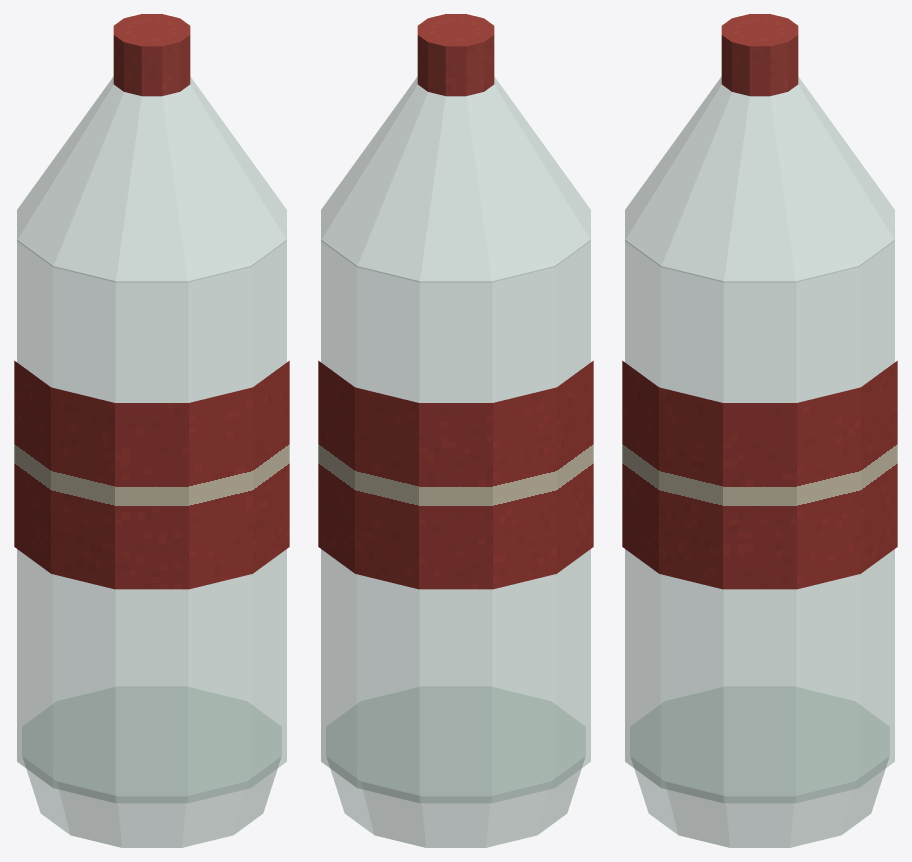
The model's file is bottle_twoliter.glb.
3 renders of one model, left to right at view 1: azimuth 30°, elevation 25°; view 2: azimuth 150°, elevation 25°; view 3: azimuth 270°, elevation 25°, orthographic.
Visible parts, largest first — view 1: block_clear PET sides, block_soda label, block_rounded shoulder, block_moulded base, block_red cap; view 2: block_clear PET sides, block_soda label, block_rounded shoulder, block_moulded base, block_red cap; view 3: block_clear PET sides, block_soda label, block_rounded shoulder, block_moulded base, block_red cap.
Part boxes in pixels (x1,y1,x2,y2): block_clear PET sides: (17,240,286,803); block_soda label: (14,360,289,589); block_rounded shoulder: (17,77,286,282); block_moulded base: (22,686,281,847); block_red cap: (113,14,190,96); block_clear PET sides: (321,240,590,803); block_soda label: (318,360,593,589); block_rounded shoulder: (321,77,590,282); block_moulded base: (326,686,585,847); block_red cap: (417,14,494,96); block_clear PET sides: (625,240,894,803); block_soda label: (622,360,897,589); block_rounded shoulder: (625,77,894,282); block_moulded base: (630,686,889,847); block_red cap: (721,14,798,96).
Size of the model in its own units: 0.1005 by 0.31 by 0.1005.
2 materials, 2 textured.
